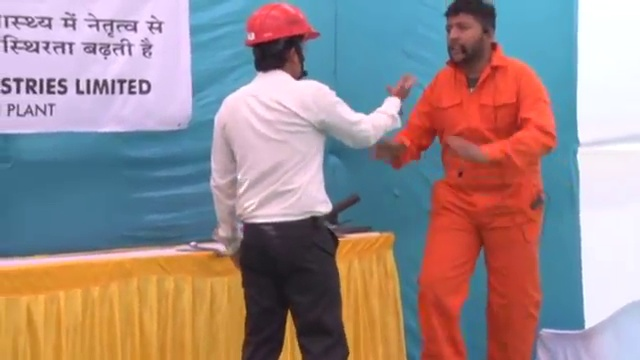helmet: (239, 1, 323, 46)
helmet_off: (443, 1, 498, 69)
helmet_on: (238, 1, 324, 80)
person: (207, 1, 416, 360), (373, 1, 560, 360)
